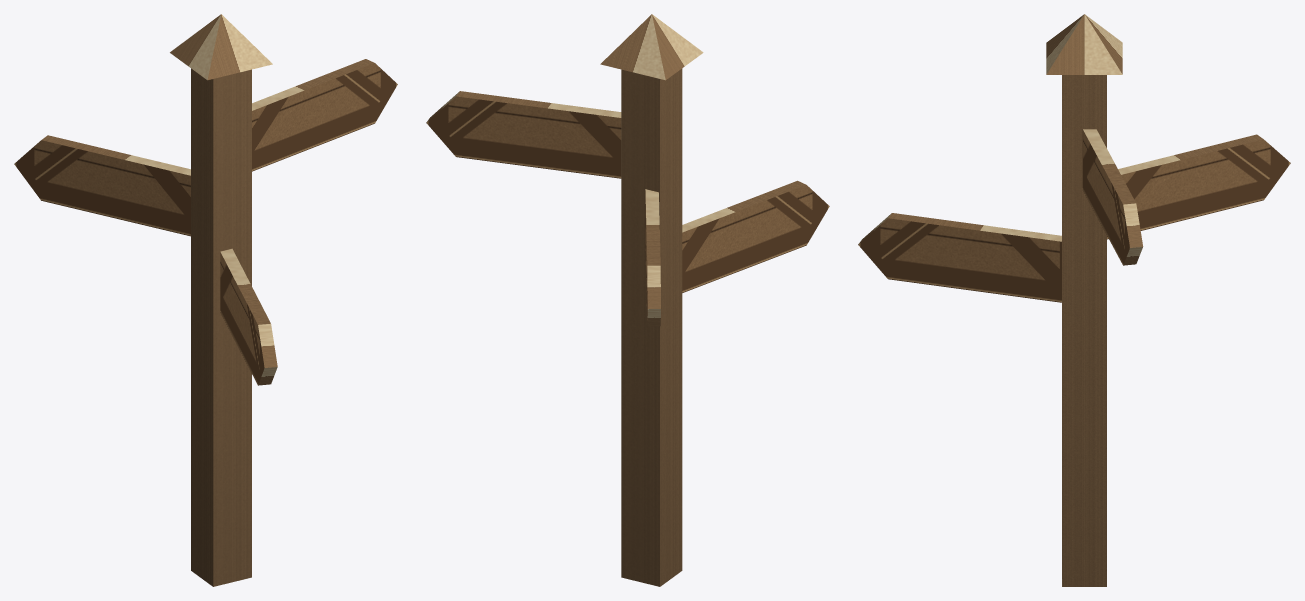
File: signpost.glb
3 renders of one model, left to right at view 1: azimuth 30°, elevation 25°; view 2: azimuth 150°, elevation 25°; view 3: azimuth 270°, elevation 25°, orthographic.
Visible parts, largest first — view 1: signpost; view 2: signpost; view 3: signpost.
Part boxes in pixels (<box>): signpost: <box>14,14,397,586</box>; signpost: <box>426,14,829,586</box>; signpost: <box>858,14,1290,586</box>.
Bounding box in the file's own units: 1.59 × 2.77 × 1.93.
Materials: 2 (2 with a texture image).
